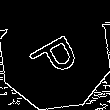P_NE: (24, 27, 86, 83)
